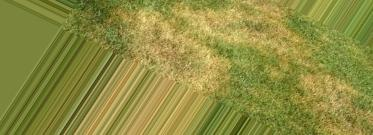patch: (121, 10, 177, 54), (216, 5, 277, 42), (295, 63, 336, 113), (189, 37, 224, 85), (259, 44, 289, 77), (307, 114, 352, 133), (183, 7, 210, 33), (225, 91, 261, 109), (227, 58, 248, 86), (339, 82, 359, 111), (90, 14, 110, 43)
